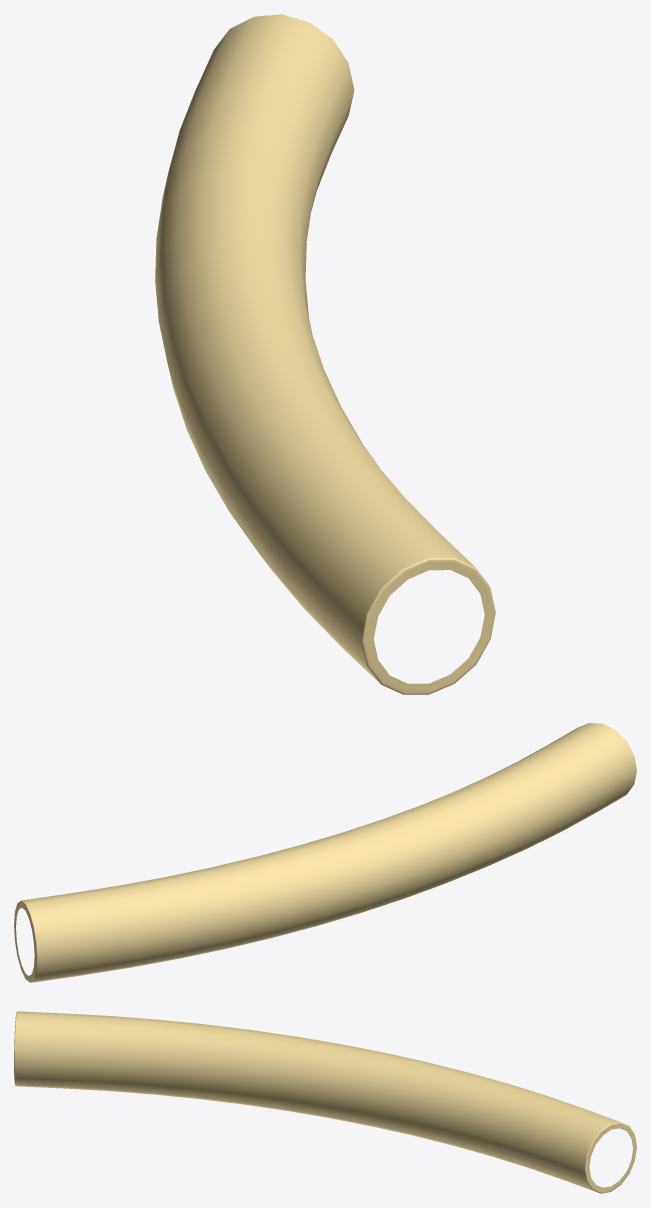
File: BlissBar_SmoothSmall.glb
3 renders of one model, top to bottom at view 1: azimuth 30°, elevation 25°; view 2: azimuth 150°, elevation 25°; view 3: azimuth 270°, elevation 25°, orthographic. The views are drawn at different scales.
Parts seen in each view (by area): view 1: Bliss_Bar_Smooth_Small; view 2: Bliss_Bar_Smooth_Small; view 3: Bliss_Bar_Smooth_Small.
Boxes of the visible parts, x1=… form: Bliss_Bar_Smooth_Small: x1=155, y1=14, x2=495, y2=694; Bliss_Bar_Smooth_Small: x1=14, y1=723, x2=636, y2=982; Bliss_Bar_Smooth_Small: x1=14, y1=1011, x2=636, y2=1193.
Bounding box in the file's own units: 0.0119 × 0.00278 × 0.023.
